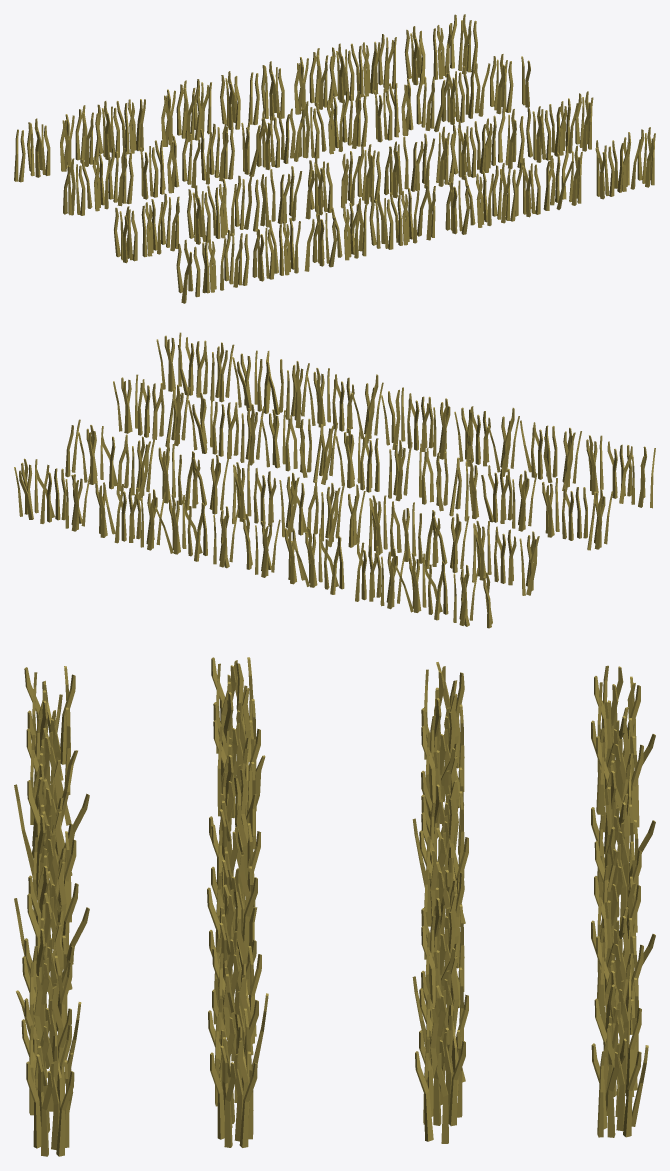
The model's file is Farm_FirstAge_Level2_Wheat.glb.
3 views of the same model, one above another, from view 1: azimuth 30°, elevation 25°; view 2: azimuth 150°, elevation 25°; view 3: azimuth 270°, elevation 25° (orthographic). The views are drawn at different scales.
Parts seen in each view (by area): view 1: Farm_FirstAge_Level2_Wheat; view 2: Farm_FirstAge_Level2_Wheat; view 3: Farm_FirstAge_Level2_Wheat.
Part boxes in pixels (bbox=[...]): Farm_FirstAge_Level2_Wheat: bbox=[14, 14, 655, 303]; Farm_FirstAge_Level2_Wheat: bbox=[14, 332, 655, 628]; Farm_FirstAge_Level2_Wheat: bbox=[14, 657, 655, 1156].
Size of the model in its own units: 1.68 by 0.1883 by 1.1.
